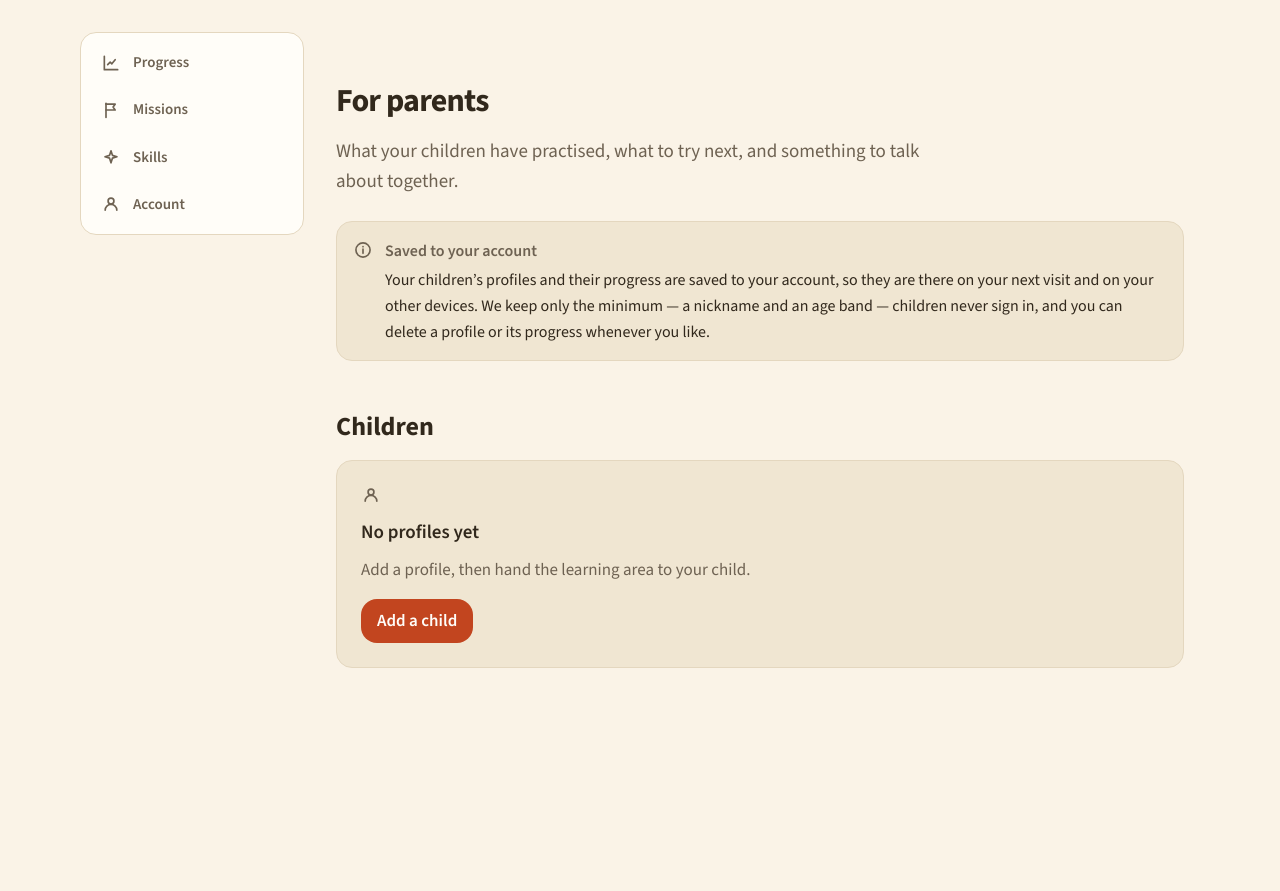
creating profiles › offers no way to enter a surname, birthday, or email
The image size is (1280, 891).
Click the button "Add a child" at x=417, y=621, box [361, 599, 473, 643]
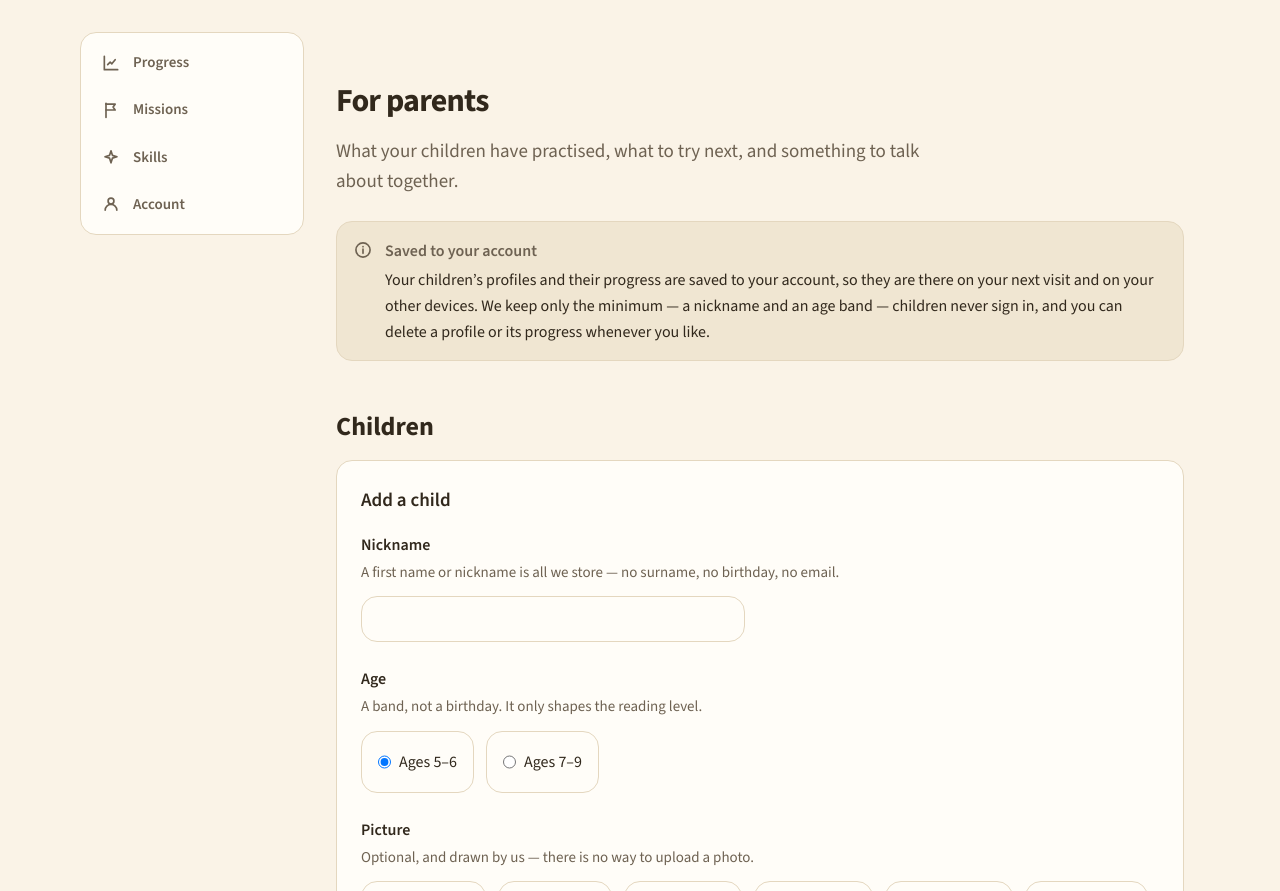
Expected: the number of fields is 1, [361, 596, 745, 642]
